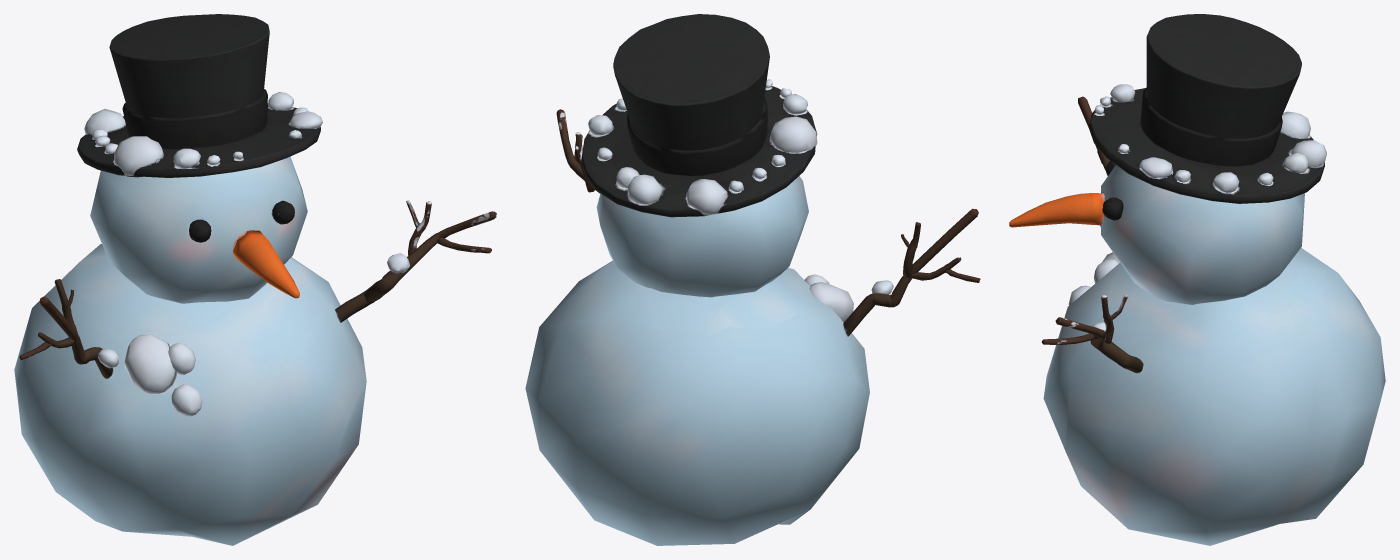
Rendered from selected.glb.
The picture shows the model from 3 angles, left to right: view 1: azimuth 30°, elevation 25°; view 2: azimuth 150°, elevation 25°; view 3: azimuth 270°, elevation 25°; orthographic projection. The views are drawn at different scales.
Parts seen in each view (by area): view 1: tripo_node_536ac1d0-bead-4af4-a112-b71d5b7cae61; view 2: tripo_node_536ac1d0-bead-4af4-a112-b71d5b7cae61; view 3: tripo_node_536ac1d0-bead-4af4-a112-b71d5b7cae61.
Boxes of the visible parts, x1,y1,x2,y2 form: tripo_node_536ac1d0-bead-4af4-a112-b71d5b7cae61: [14, 14, 496, 545]; tripo_node_536ac1d0-bead-4af4-a112-b71d5b7cae61: [525, 14, 980, 545]; tripo_node_536ac1d0-bead-4af4-a112-b71d5b7cae61: [1009, 14, 1385, 545].
Size of the model in its own units: 0.9941 by 0.998 by 0.7285.
Materials: 1 (1 with a texture image).
